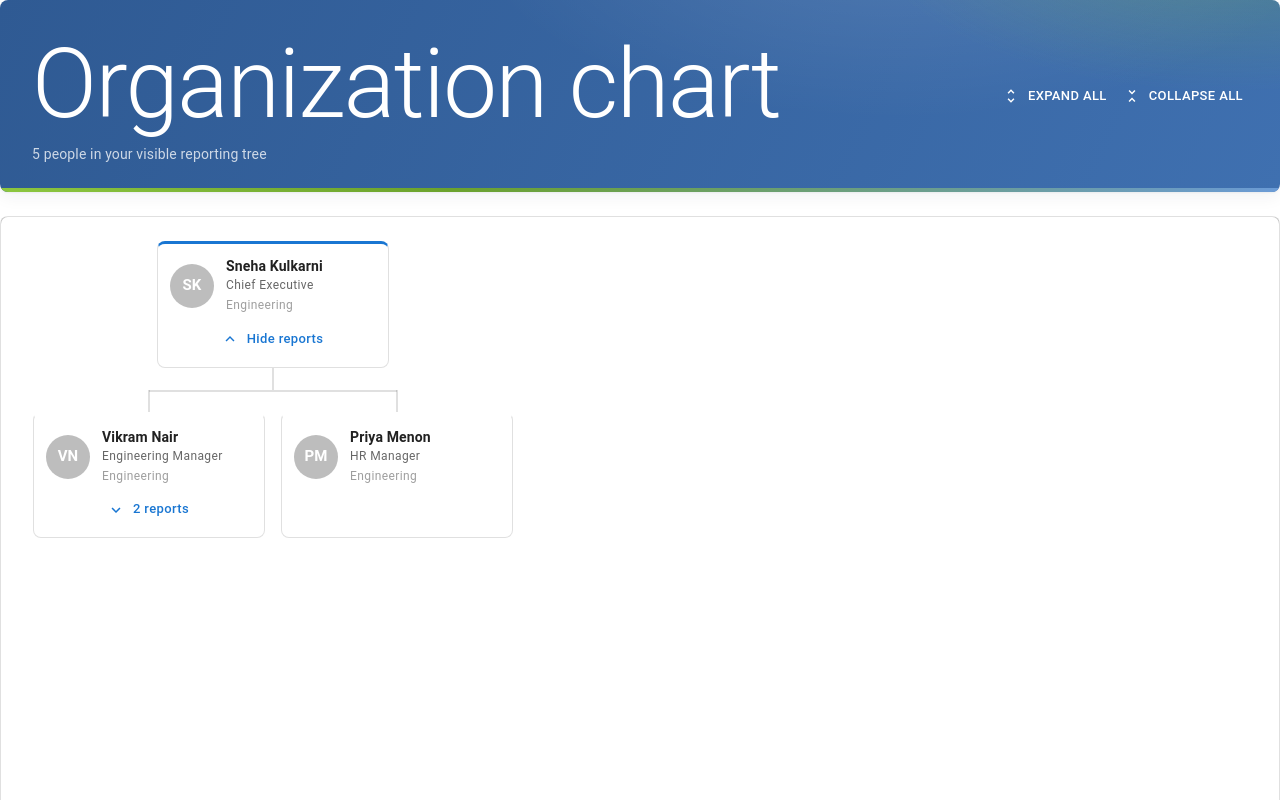
Scenario: OrgChartPage › collapses the whole tree at once
This screenshot has width=1280, height=800.
Click the button "Expand all" at (1055, 96), box left=999, top=81, right=1112, bottom=111
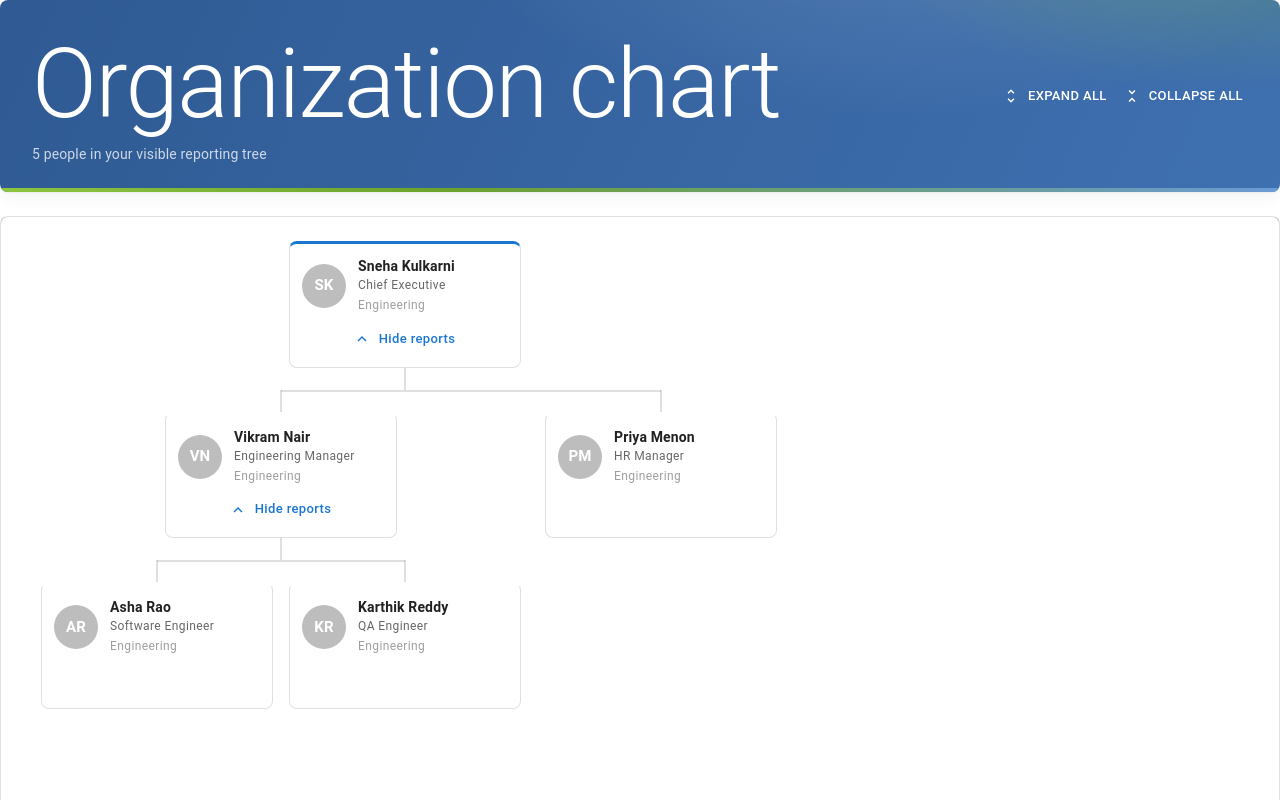
Now the link "Asha Rao" is shown, box left=110, top=599, right=171, bottom=615
Click the button "Collapse all" at (1184, 96), box left=1120, top=81, right=1248, bottom=111
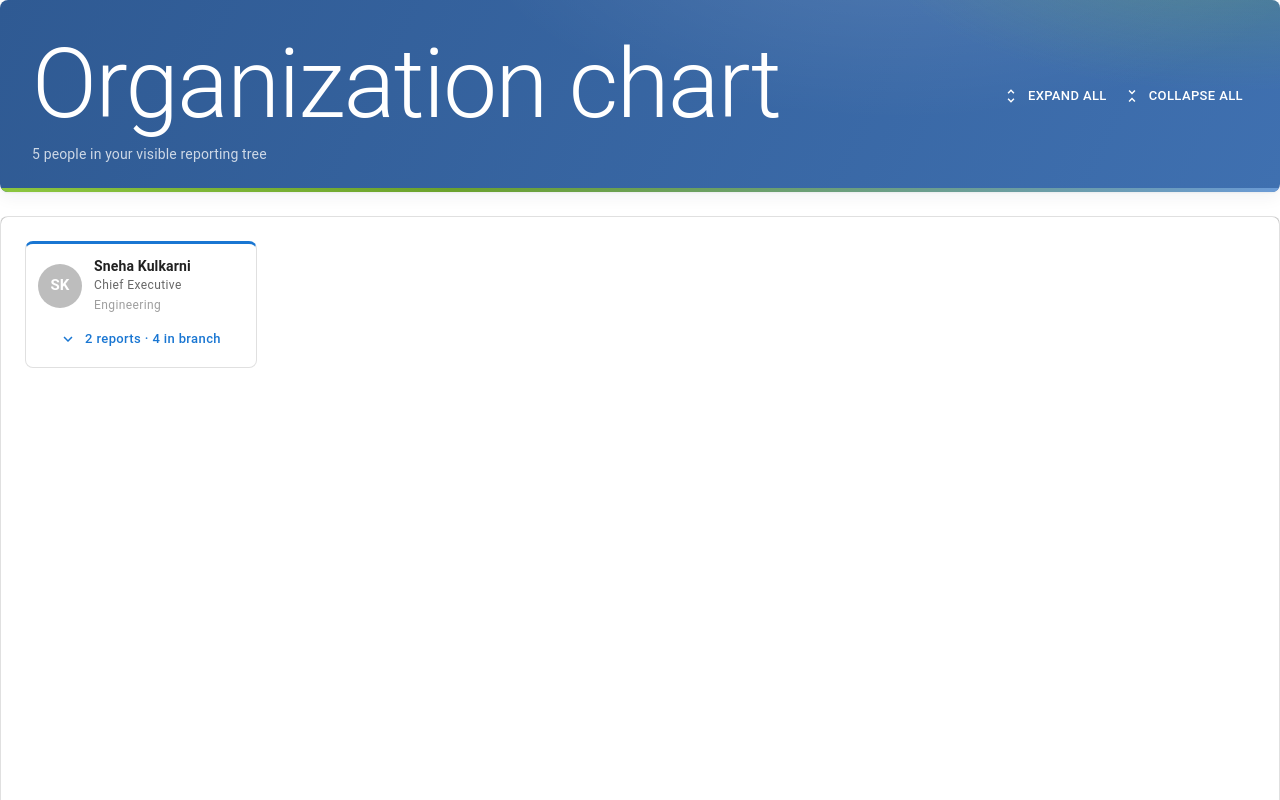
Now the link "Vikram Nair" is gone
